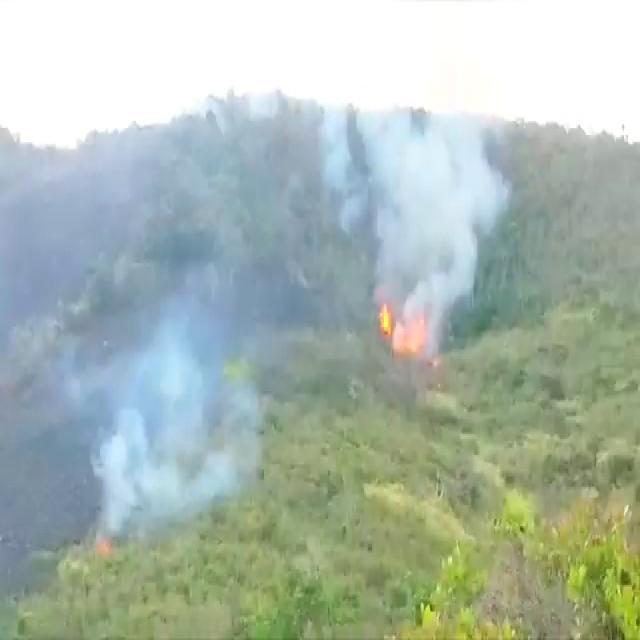Fire: (377, 298, 427, 356), (93, 531, 114, 562)
Smoke: (326, 98, 508, 291), (70, 330, 262, 495)
